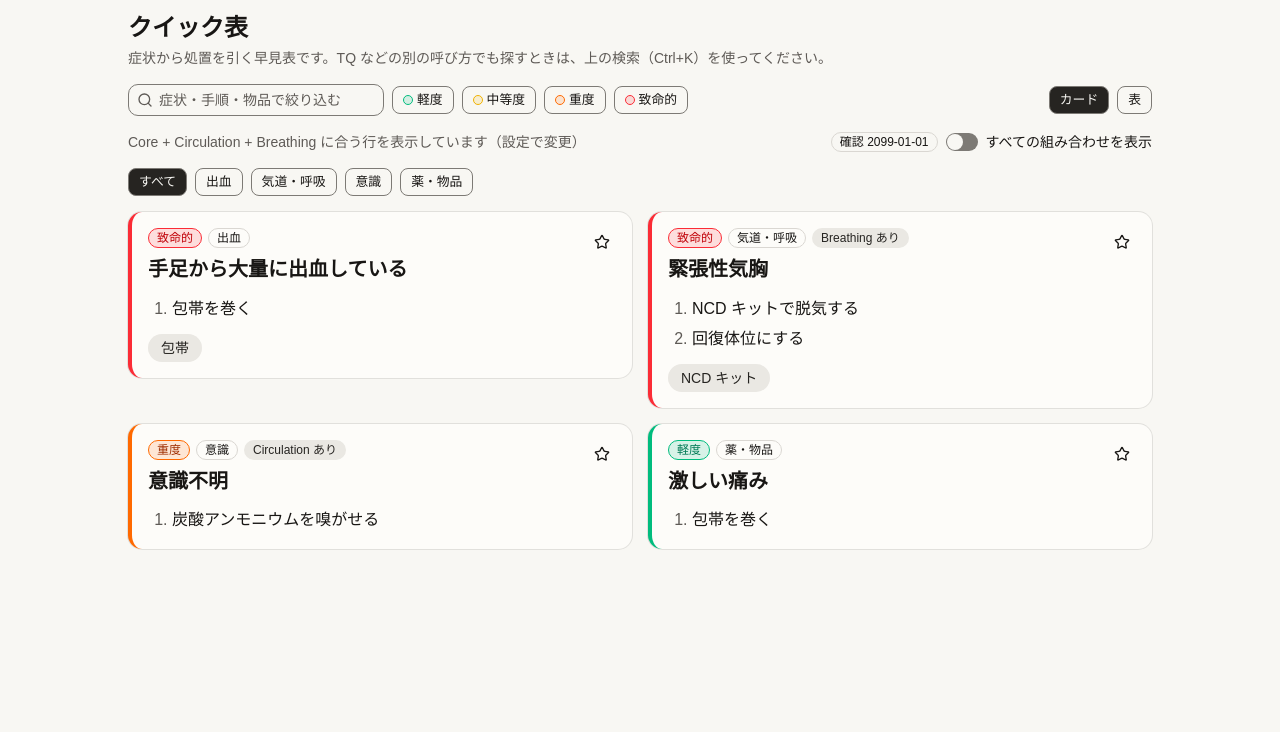
QuickrefPage › 「すべての組み合わせを表示」で、使っていない MOD の行も条件付きで出る
Expected: the text "エピネフリンを注射する" is not shown
What coordinates should you click on to do the following:
click the switch named "すべての組み合わせを表示"
I would click on:
 (962, 142)
Its box is [946, 133, 978, 151].
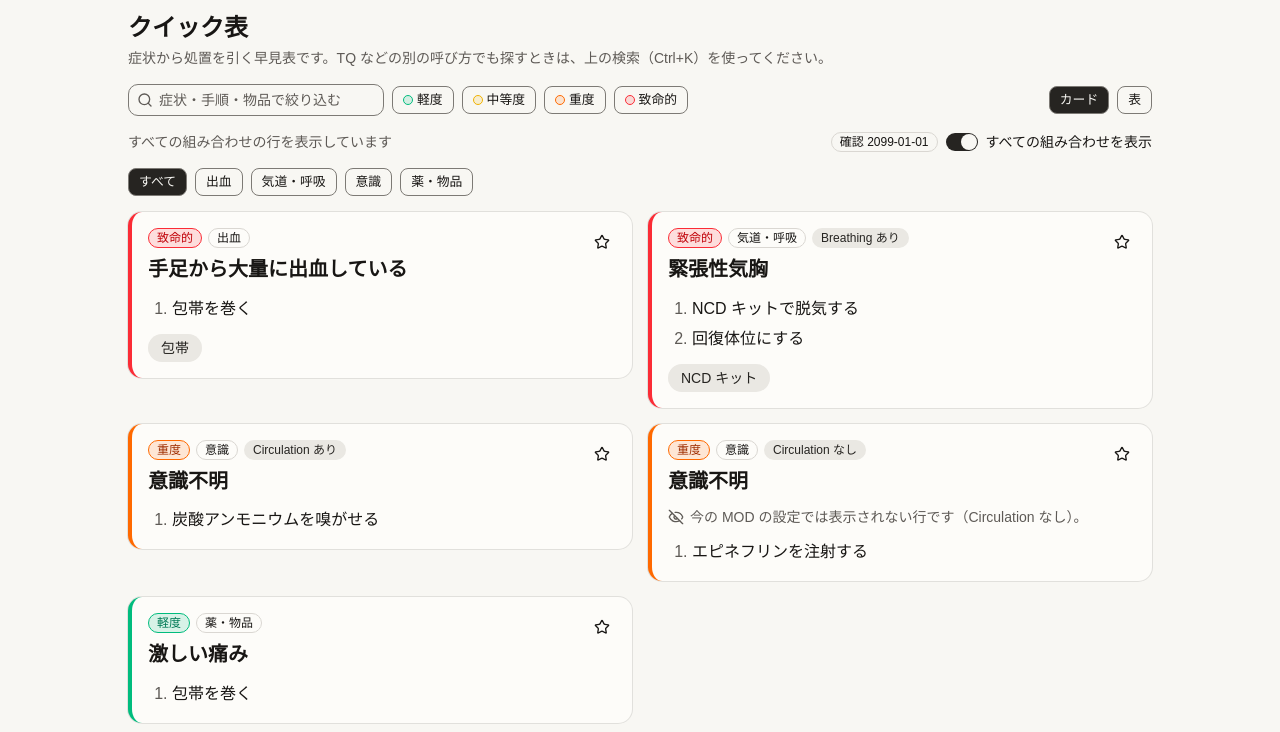
Result: the list item "エピネフリンを注射する" is shown at [692, 543, 868, 560]
Result: the text "Circulation なし" is shown at [764, 440, 866, 460]
